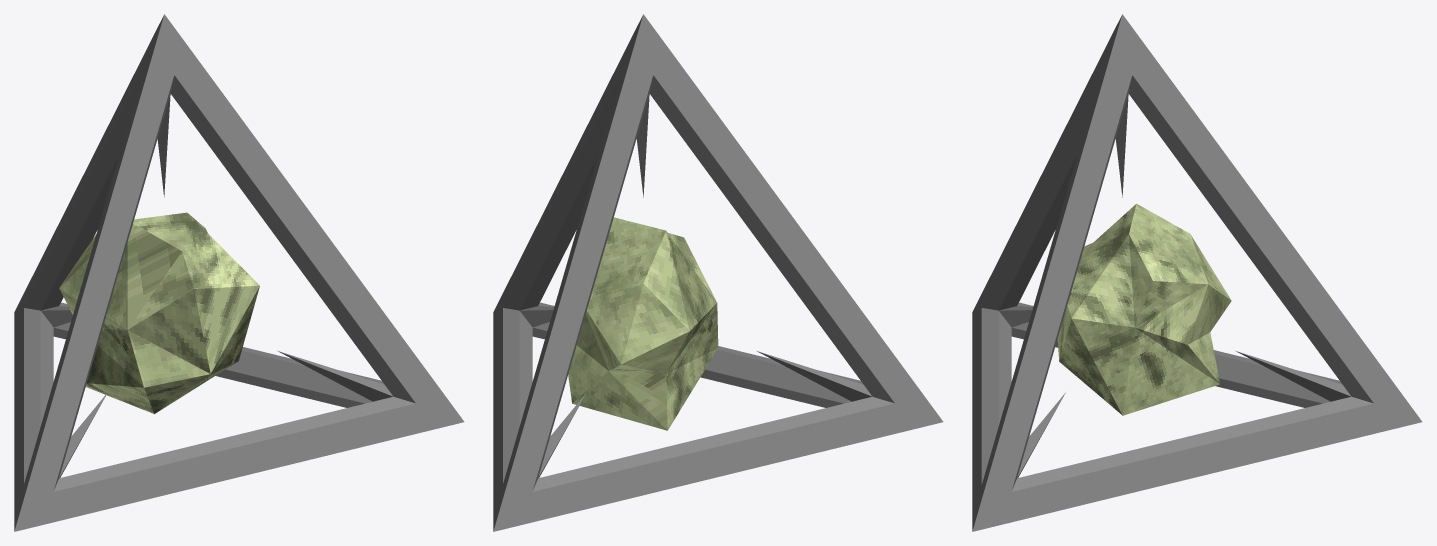
File: item_impulse_grenade.glb
The picture shows the model from 3 angles, left to right: view 1: azimuth 30°, elevation 25°; view 2: azimuth 150°, elevation 25°; view 3: azimuth 270°, elevation 25°; orthographic projection.
Visible parts, largest first — view 1: TriGrenade, UraniumBlob_Small; view 2: TriGrenade, UraniumBlob_Small; view 3: TriGrenade, UraniumBlob_Small.
Boxes of the visible parts, left/top/right/bottom form: TriGrenade: left=14, top=14, right=464, bottom=531; UraniumBlob_Small: left=59, top=212, right=259, bottom=413; TriGrenade: left=493, top=14, right=943, bottom=531; UraniumBlob_Small: left=568, top=217, right=718, bottom=430; TriGrenade: left=972, top=14, right=1422, bottom=531; UraniumBlob_Small: left=1057, top=203, right=1231, bottom=415.
Size of the model in its own units: 0.2276 by 0.1971 by 0.1971.
Materials: 2 (1 with a texture image).
